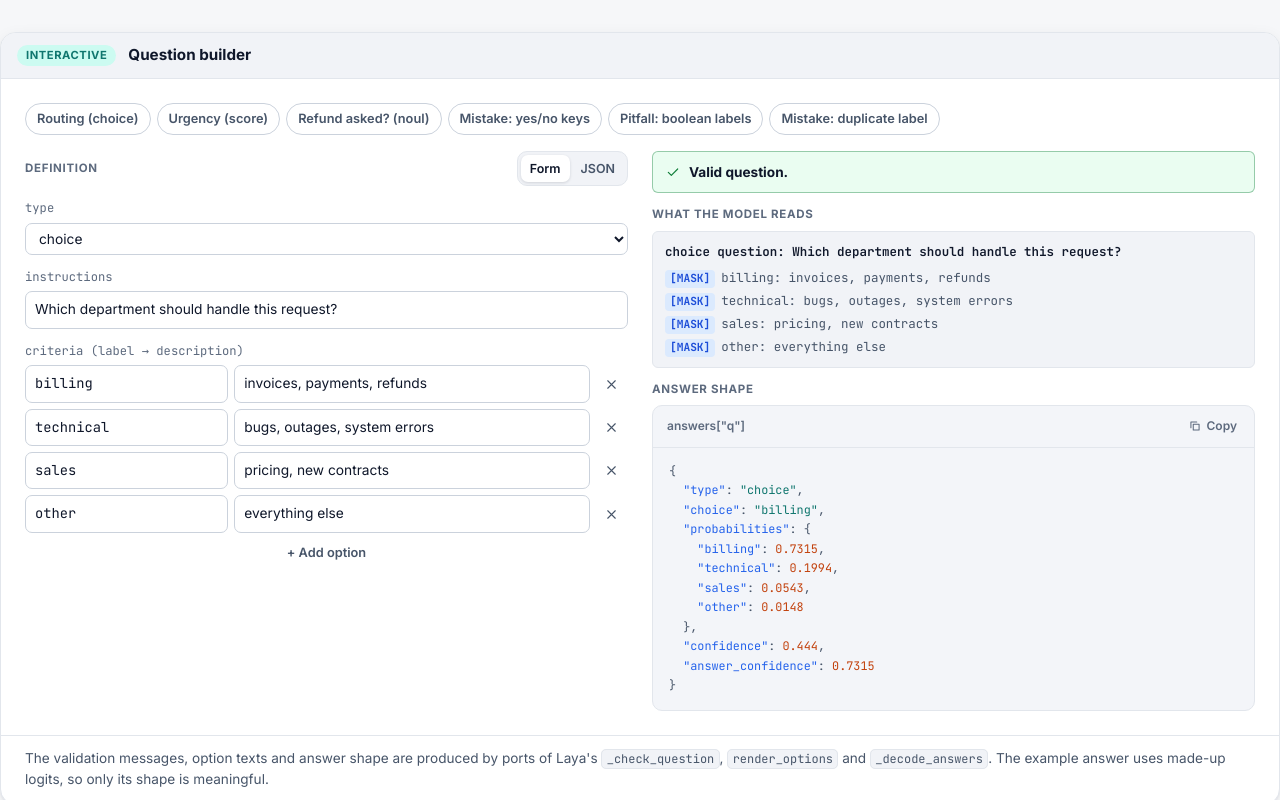
Scenario: QuestionBuilder › warns about boolean-word choice labels
The width and height of the screenshot is (1280, 800).
Click the button "Pitfall: boolean labels": (686, 119) [608,103,764,135]
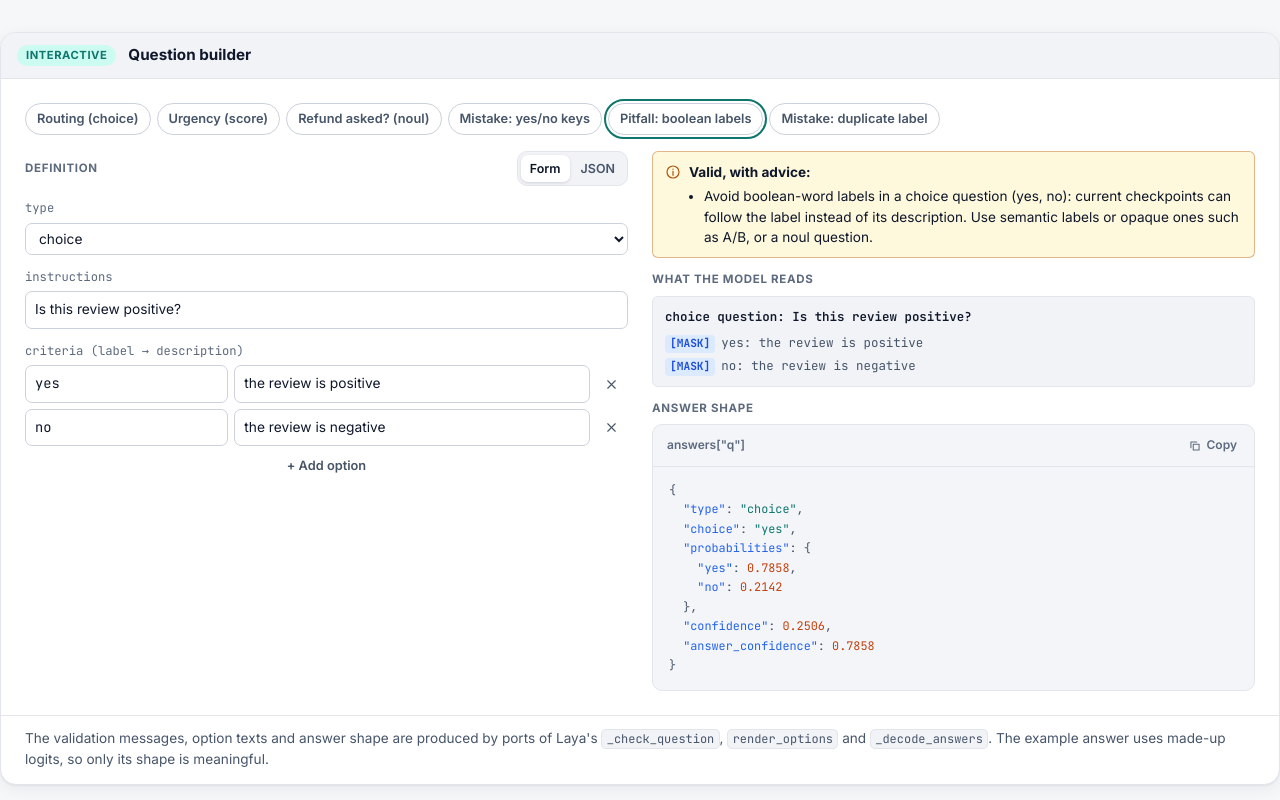
Expected: the list item "Avoid boolean-word labels" is shown, [704,188,1239,245]
